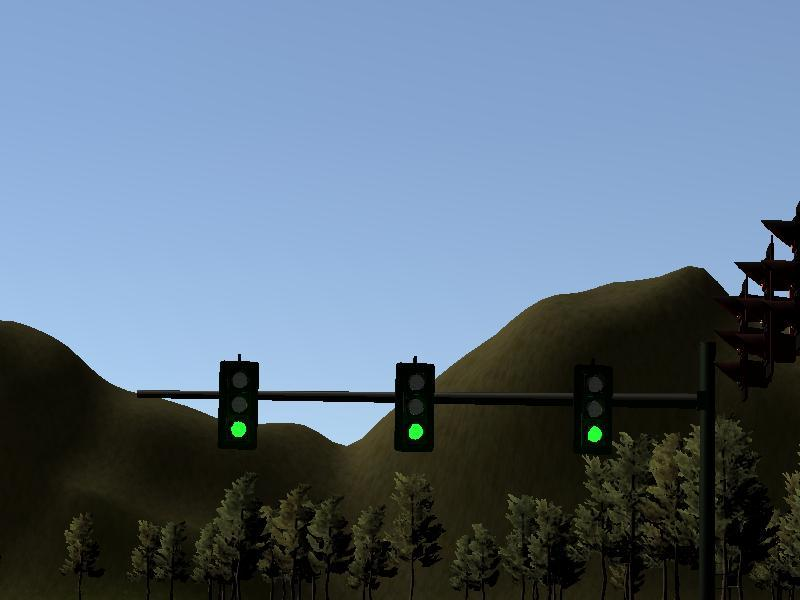Green: (397, 364, 434, 453), (578, 365, 614, 452), (222, 361, 255, 449)
